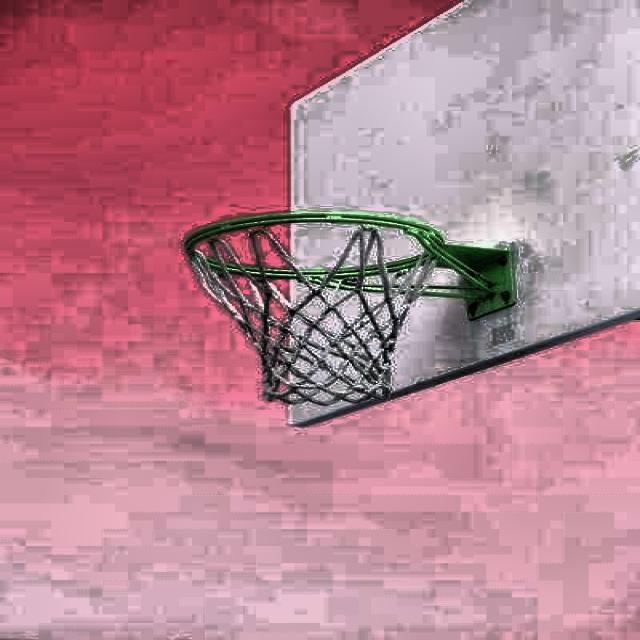rim: (186, 210, 438, 404)
